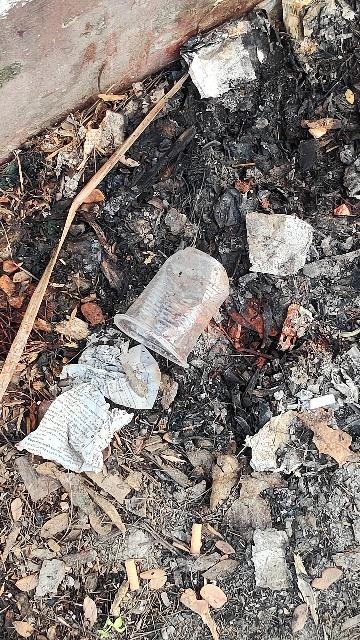hardplastic: (102, 243, 262, 376)
